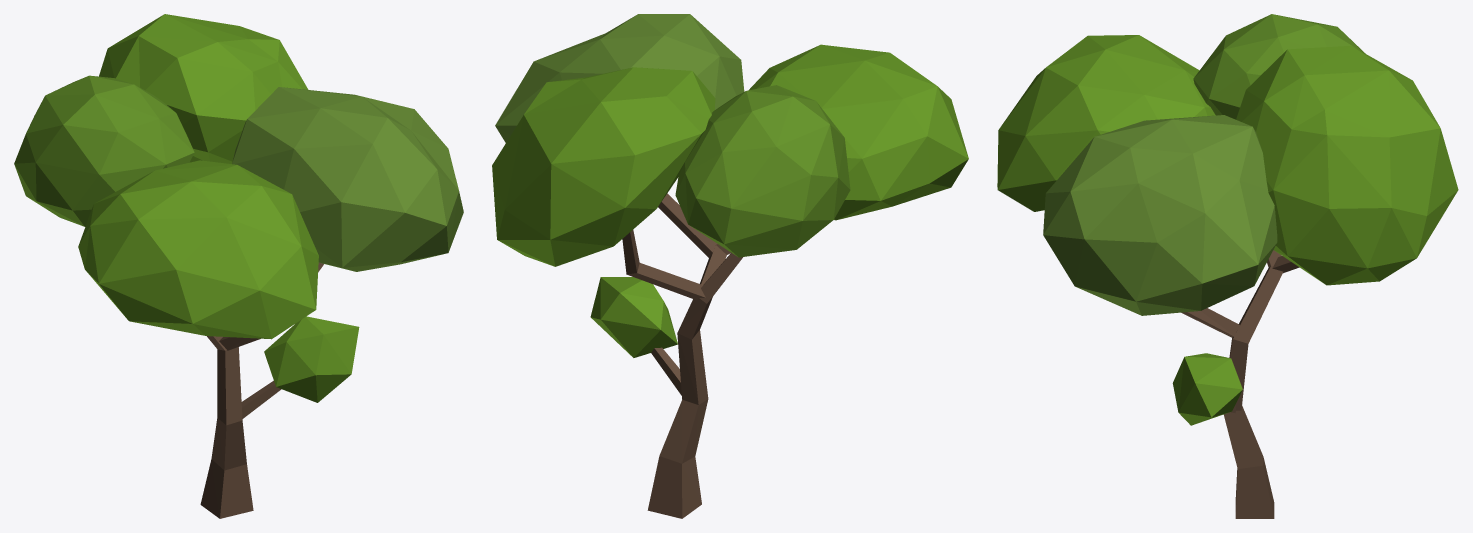
File: tree_5.fbx
The picture shows the model from 3 angles, left to right: view 1: azimuth 30°, elevation 25°; view 2: azimuth 150°, elevation 25°; view 3: azimuth 270°, elevation 25°; orthographic projection. The views are drawn at different scales.
Visible parts, largest first — view 1: tree_5; view 2: tree_5; view 3: tree_5.
Part boxes in pixels (<box>): tree_5: <box>14,14,463,518</box>; tree_5: <box>492,14,968,518</box>; tree_5: <box>997,14,1458,518</box>.
Bounding box in the file's own units: 773 × 828 × 777.
